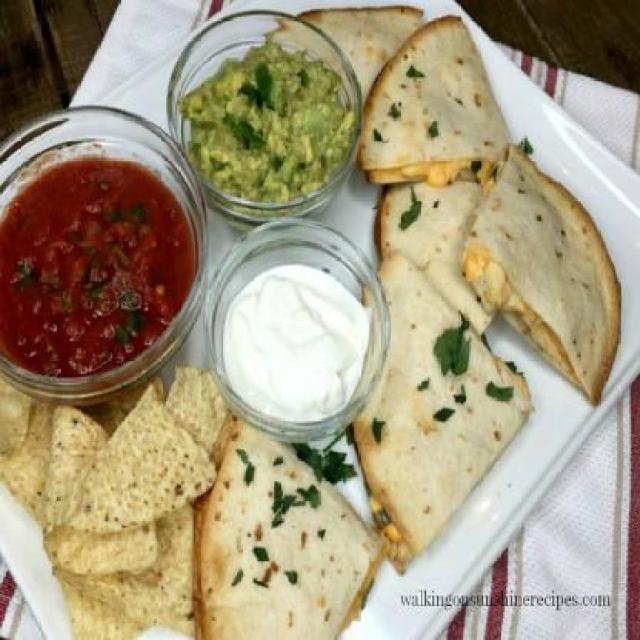guacamole: (178, 41, 353, 208)
